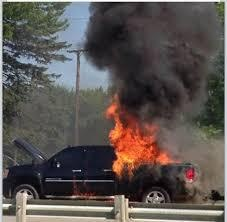fire: (104, 96, 176, 173)
